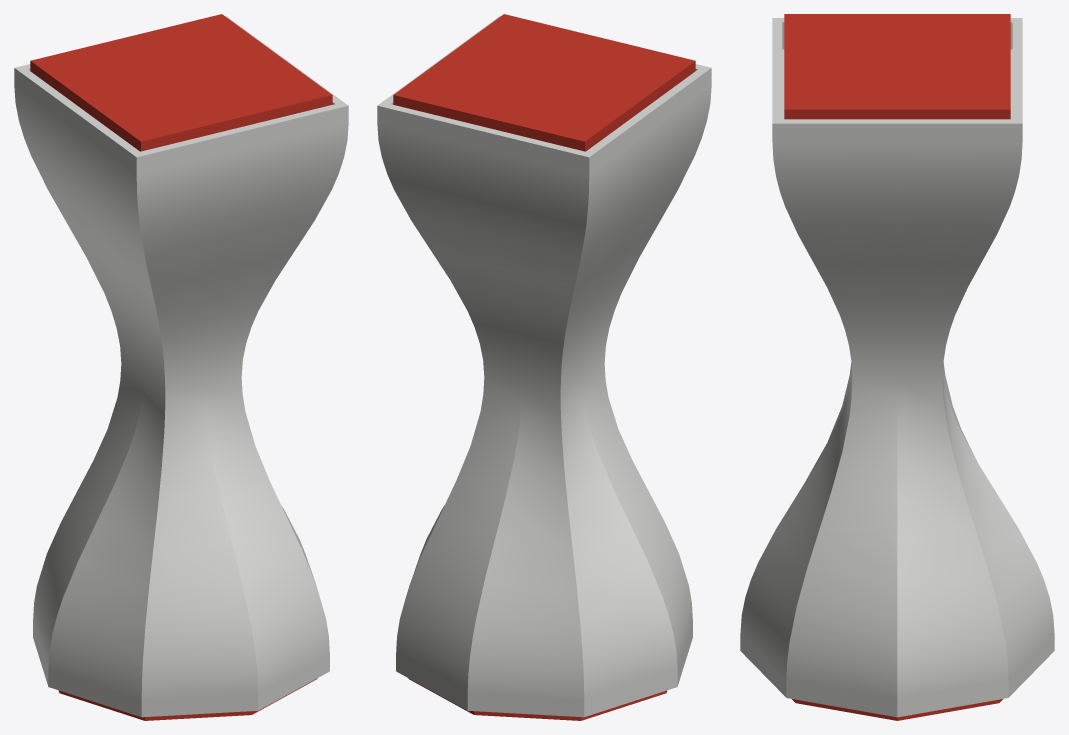
Rendered from HOUR-GLASS-SQAURE-HEX-TANGENT5 v1.fbx.
3 renders of one model, left to right at view 1: azimuth 30°, elevation 25°; view 2: azimuth 150°, elevation 25°; view 3: azimuth 270°, elevation 25°, orthographic. The views are drawn at different scales.
Parts seen in each view (by area): view 1: Body1, Body3, Body2; view 2: Body1, Body3, Body2; view 3: Body1, Body3, Body2.
Boxes of the visible parts, x1,y1,x2,y2 form: Body1: (14,16,348,717); Body3: (30,14,332,151); Body2: (58,678,317,720); Body1: (377,16,711,717); Body3: (393,14,695,151); Body2: (408,678,667,720); Body1: (740,18,1054,717); Body3: (784,14,1010,119); Body2: (792,699,1002,720).
Size of the model in its own units: 31.39 by 66 by 31.39.
